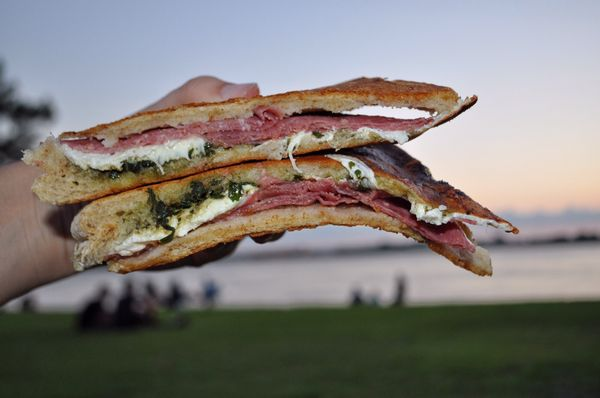soup: (18, 74, 499, 273)
